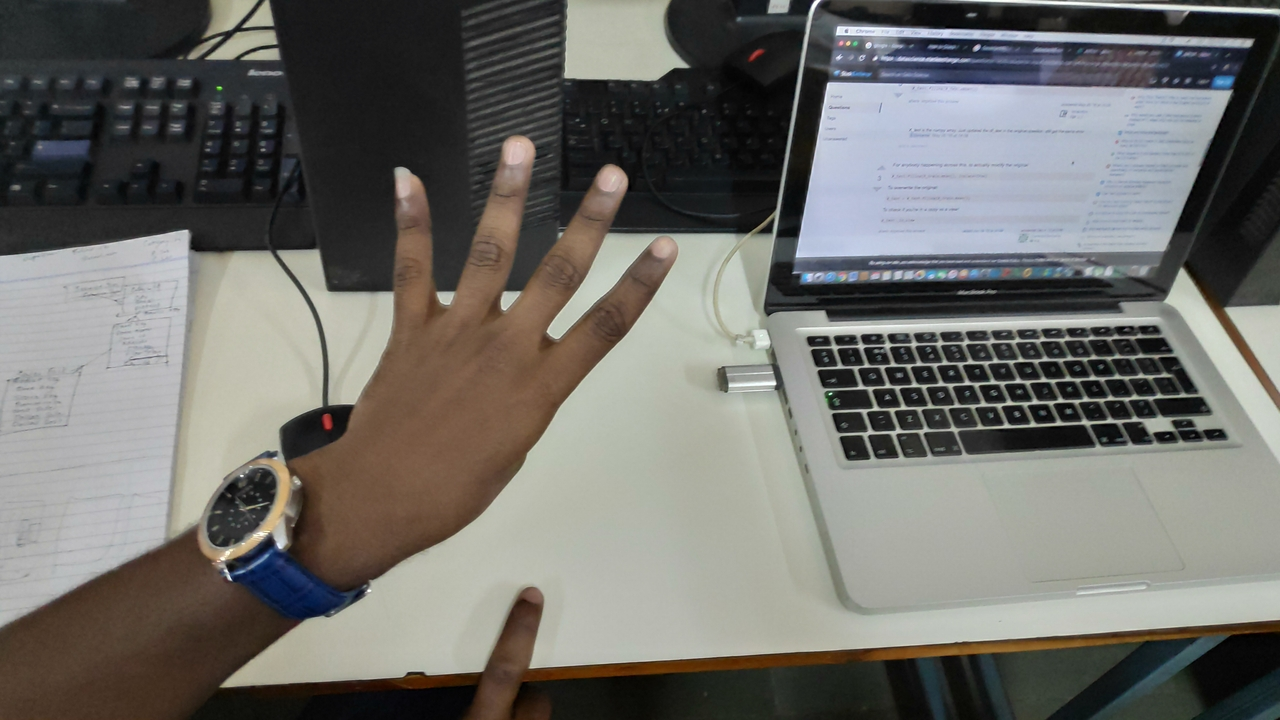fingertip: (626, 224, 694, 280), (576, 152, 638, 208), (484, 124, 542, 174), (374, 160, 438, 202)
